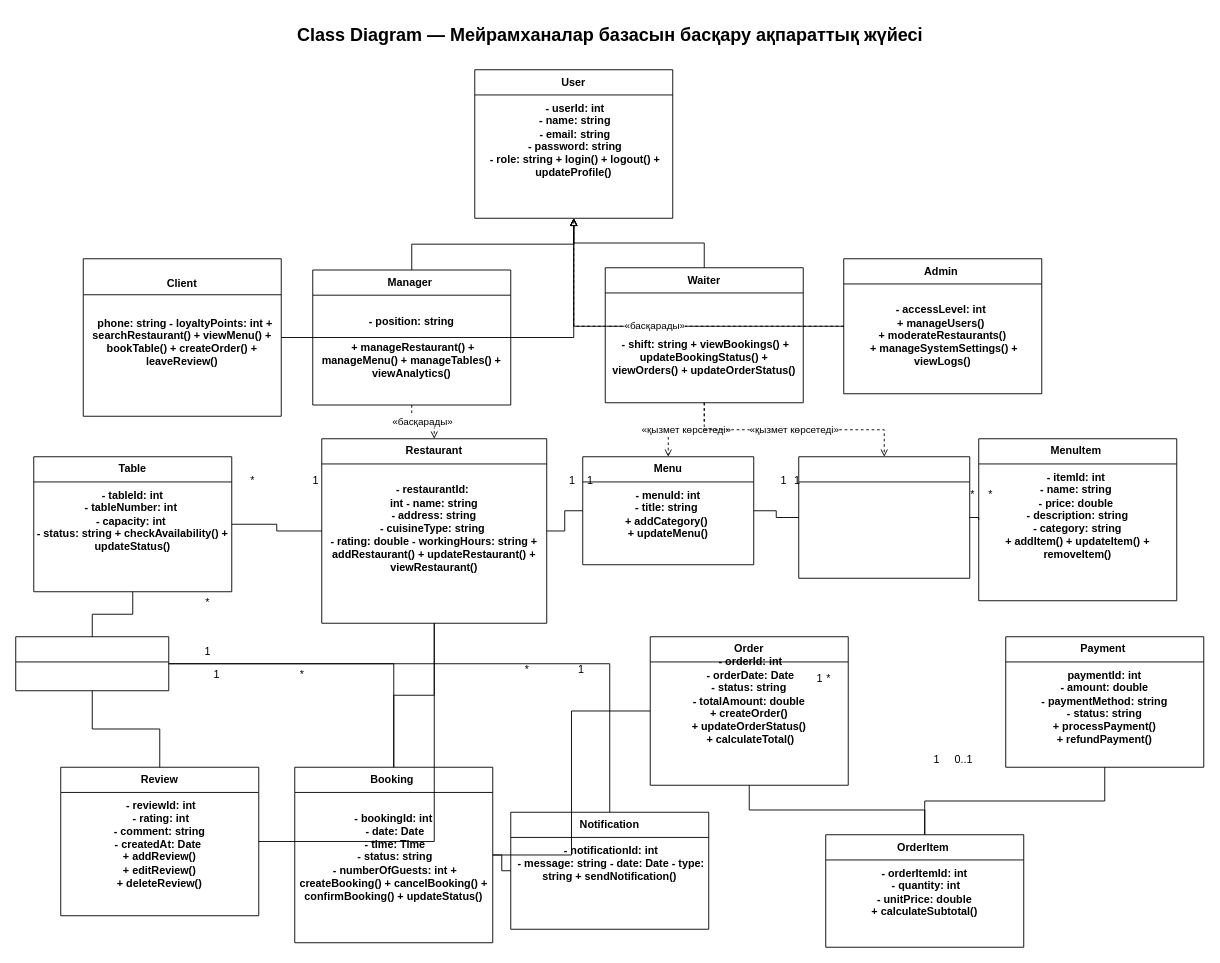
Image size: 1220x963. Some labels were removed from this diagram. The centre of each missing label's shape, as x and y in pixels:
"Client" belongs at (x=92, y=663).
"Notion - orderId: int - orderDate: Date - status: string - totalAmount()" belongs at (x=884, y=517).
